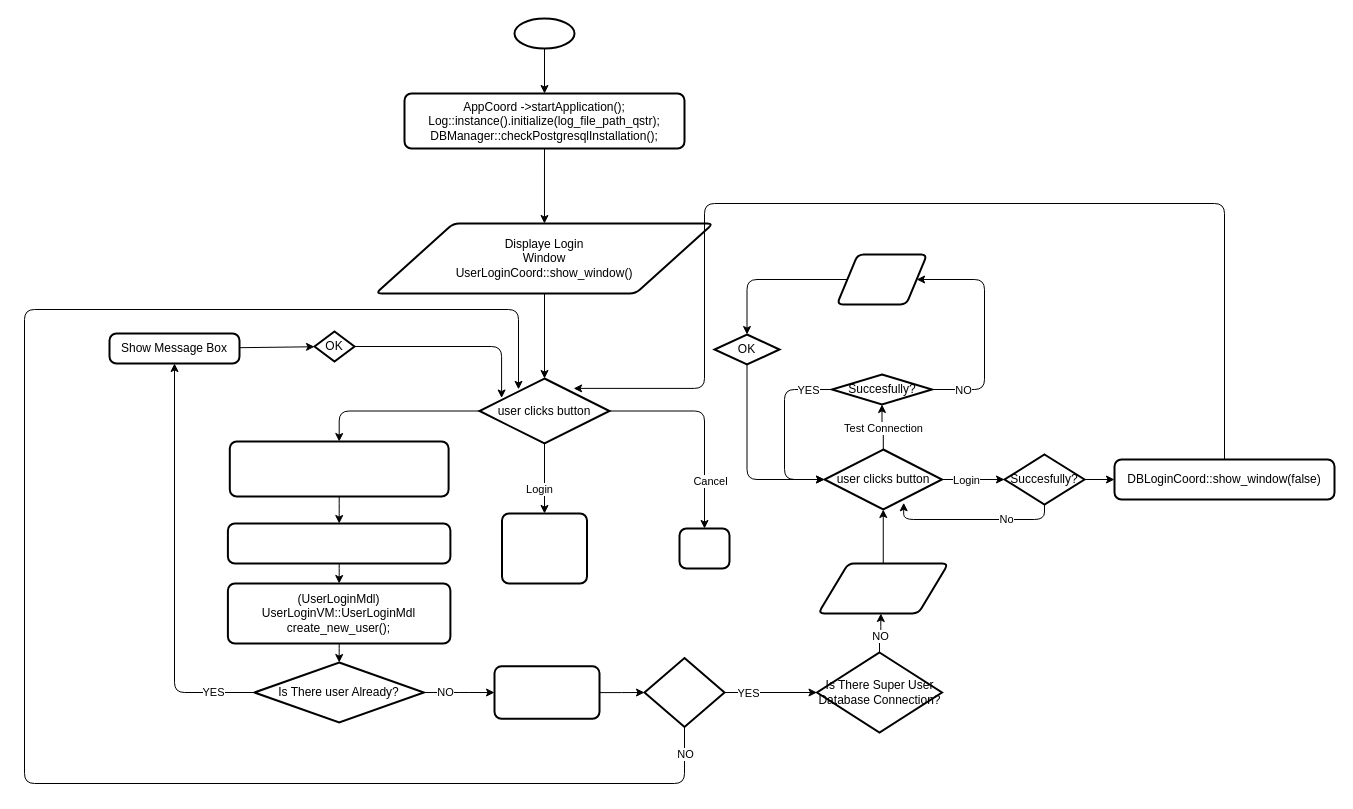
This 1353x809 diagram has some shape labels left out. The shapes that lost their labels are listed below. From the top down, each one's centre as x and y in pixels, then its label:
pixel 544 33: START
pixel 882 279: Display Error message
pixel 338 468: (UserLoginCoord) update_model(); emit newUserCreationRequested();
pixel 338 543: (AppCoord) UserLoginCoord::createNewUser()
pixel 883 588: Display Database Login Window
pixel 546 692: (UserLoginMdl) Create new user and save json file
pixel 684 692: saved file
